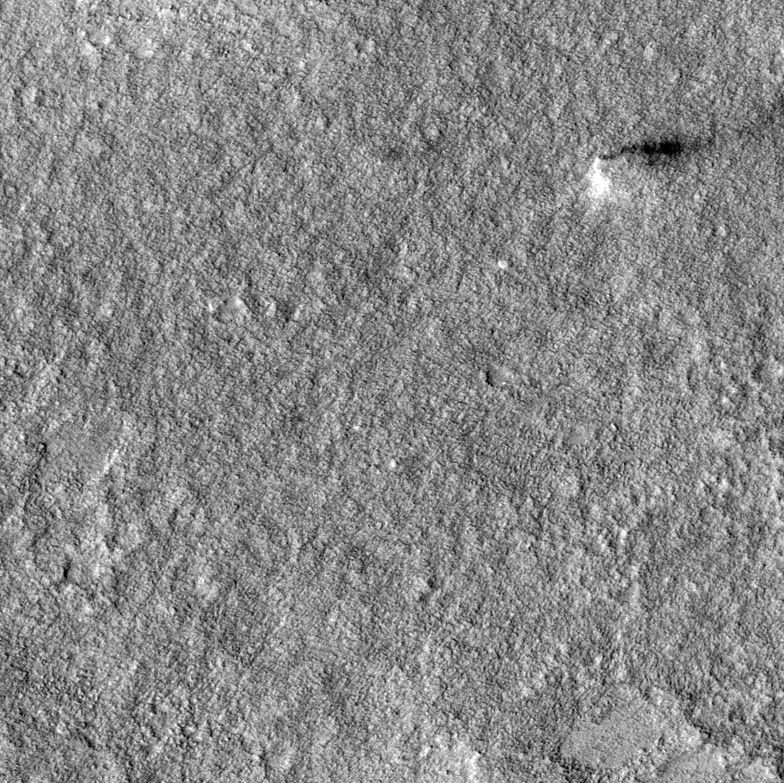dust_devil: (585, 134, 696, 201)
